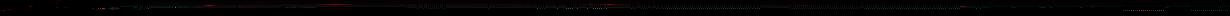Blue cone: (7, 9, 13, 10), (22, 7, 27, 8), (28, 6, 33, 7)
Yellow cone: (1090, 6, 1095, 8)
